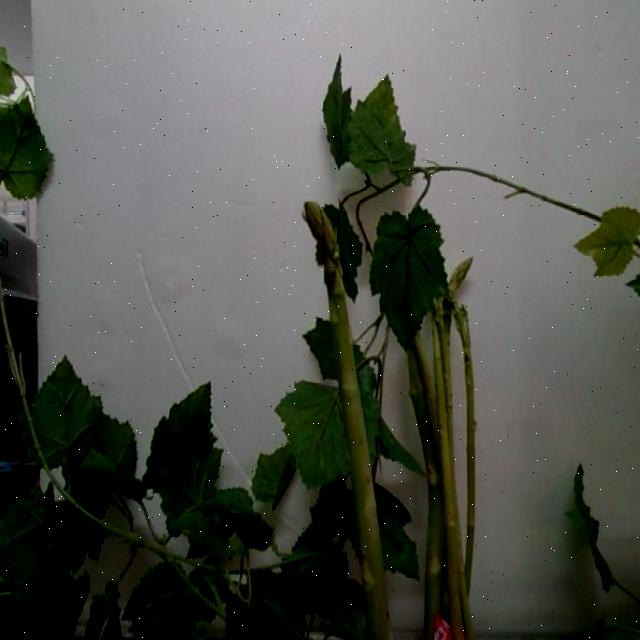aspargus: (306, 201, 393, 640)
